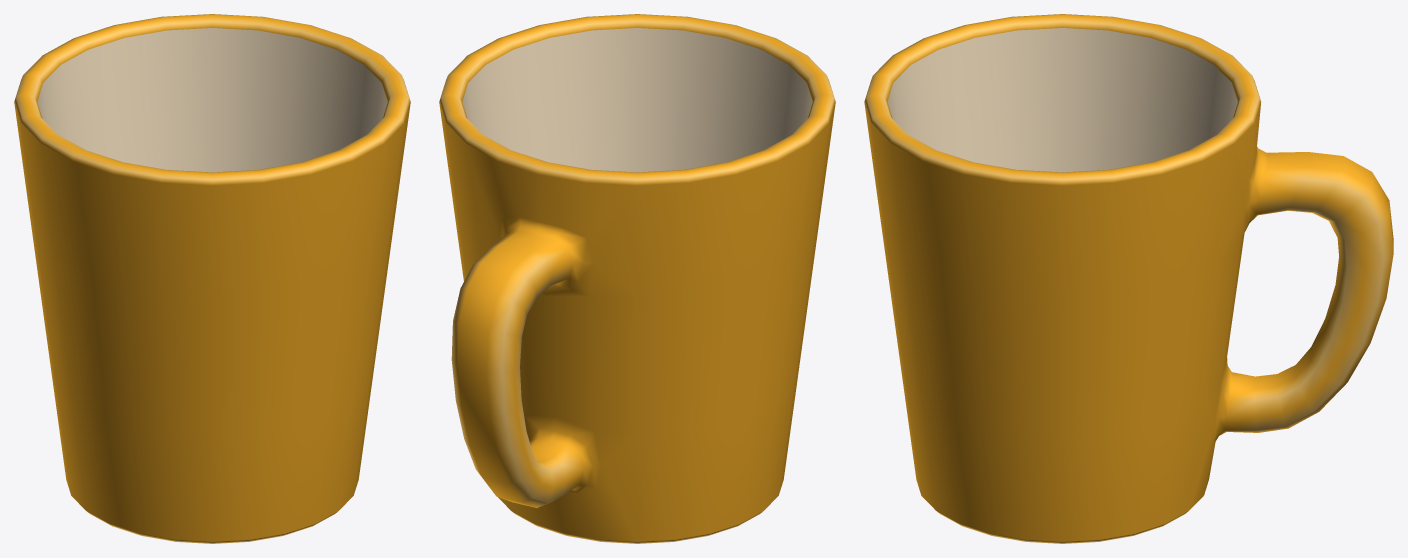
File: Cup_02.fbx
The picture shows the model from 3 angles, left to right: view 1: azimuth 30°, elevation 25°; view 2: azimuth 150°, elevation 25°; view 3: azimuth 270°, elevation 25°; orthographic projection.
Visible parts, largest first — view 1: Cup_02; view 2: Cup_02; view 3: Cup_02.
Part boxes in pixels (x1,y1,x2,y2): Cup_02: (14, 14, 410, 543); Cup_02: (439, 14, 835, 543); Cup_02: (864, 14, 1393, 543).
Bounding box in the file's own units: 9.1 × 9.86 × 12.15.
